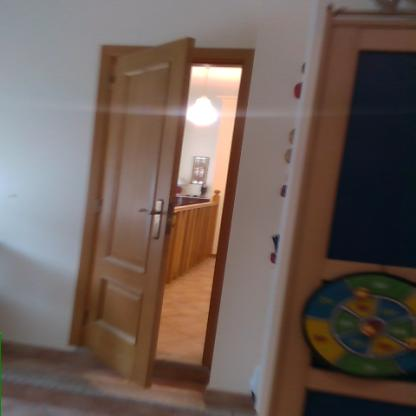semi: (86, 17, 277, 406)
